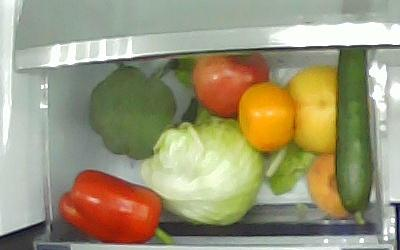apple: (194, 52, 268, 119)
broccoli: (89, 67, 176, 160)
cucumber: (337, 50, 369, 227)
grapefruit: (285, 66, 337, 155)
lettuce: (141, 119, 264, 225)
paprika: (57, 170, 171, 244)
peach: (305, 155, 352, 219)
persimmon: (239, 82, 296, 152)
